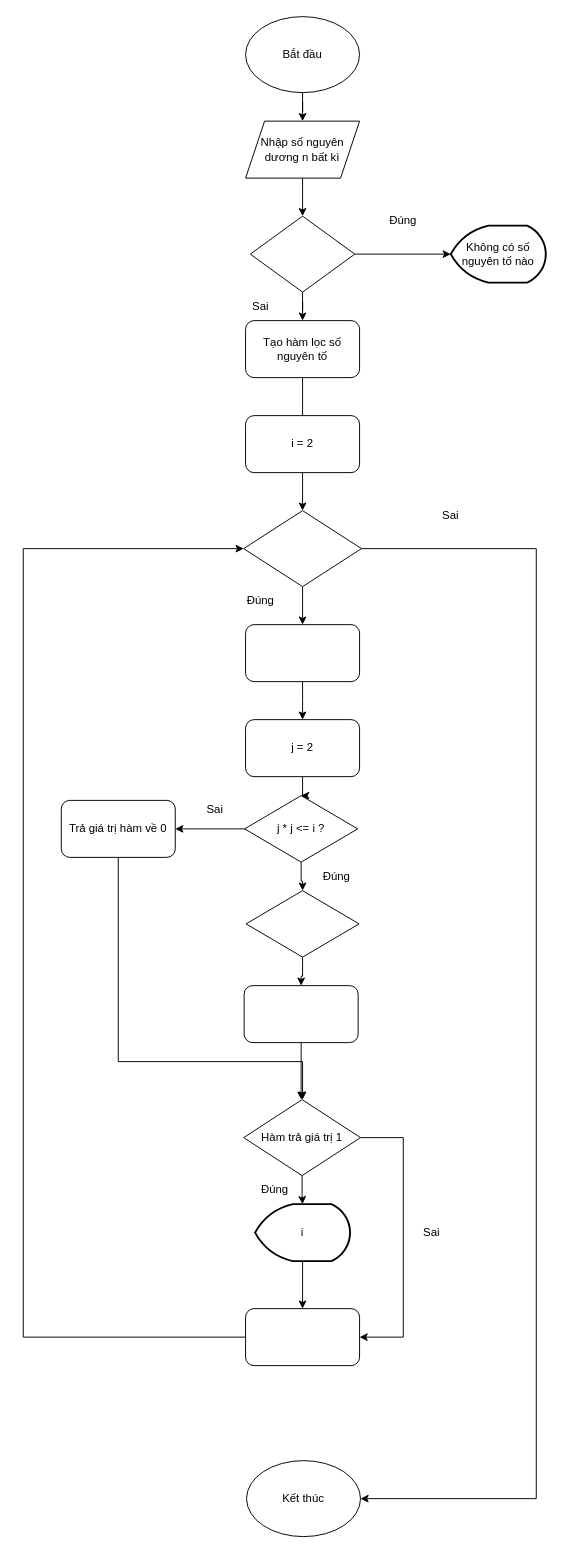
Image size: 563x1553. Some labels were removed from this diagram. Each missing label, with the centre of its shape:
i % j == 0 ?: pixel 302 923
i <= n?: pixel 302 548
n < 2: pixel 302 253
Truyền tham số i vào hàm lọc số nguyên tố = j: pixel 302 653
Trả giá trị hàm về 1: pixel 300 1014
Tăng i thêm 1: pixel 302 1337
